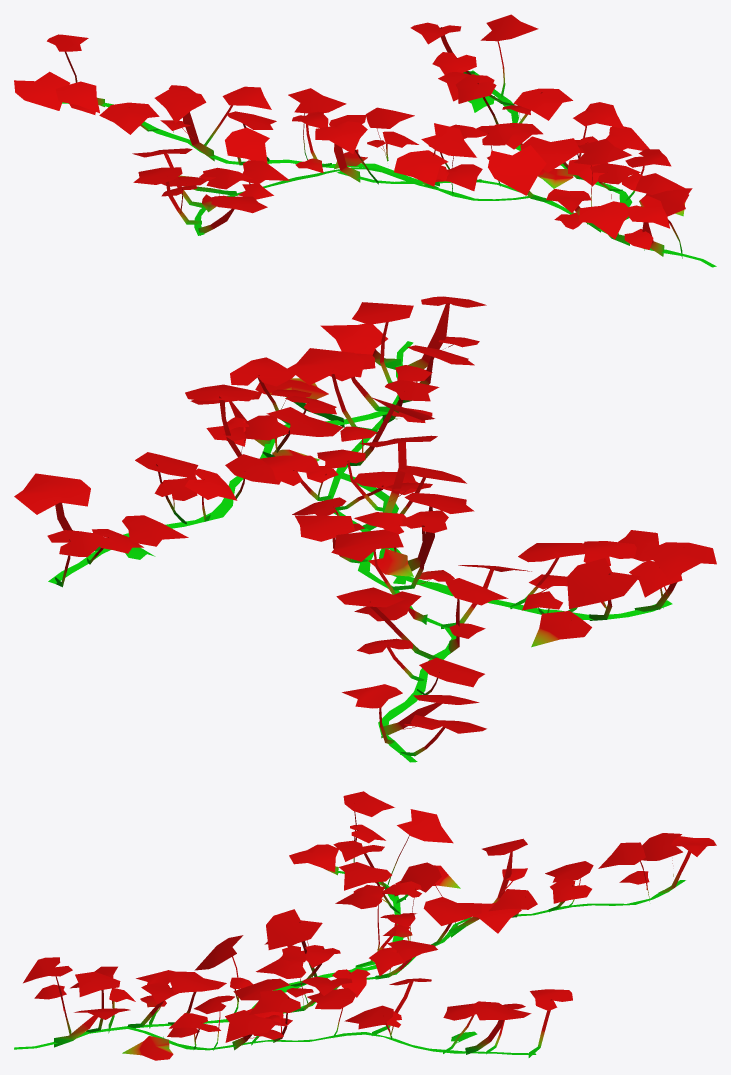
The model's file is Var2_LOD2.fbx.
3 views of the same model, one above another, from view 1: azimuth 30°, elevation 25°; view 2: azimuth 150°, elevation 25°; view 3: azimuth 270°, elevation 25° (orthographic). The views are drawn at different scales.
Parts seen in each view (by area): view 1: _mo03_Var2_LOD2; view 2: _mo03_Var2_LOD2; view 3: _mo03_Var2_LOD2.
Part boxes in pixels (x1,y1,x2,y2): _mo03_Var2_LOD2: (14,14,716,267); _mo03_Var2_LOD2: (14,296,716,762); _mo03_Var2_LOD2: (14,791,716,1060).
Size of the model in its own units: 85.44 by 12.21 by 112.
